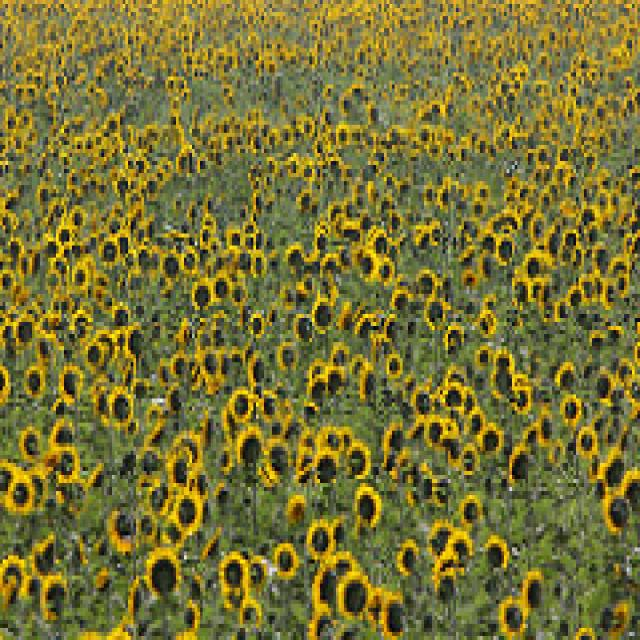sunflower: (315, 547, 360, 612), (139, 545, 184, 598), (337, 567, 375, 628), (101, 501, 139, 558), (302, 358, 342, 411), (168, 489, 205, 545), (168, 425, 203, 481), (596, 485, 633, 537), (0, 547, 29, 611), (1, 471, 36, 523), (376, 587, 410, 640), (405, 451, 435, 511), (216, 551, 251, 600), (494, 591, 529, 640), (140, 400, 175, 449), (41, 569, 71, 626), (195, 521, 229, 570), (126, 578, 158, 630), (232, 425, 264, 477), (263, 429, 292, 485), (429, 555, 459, 608), (104, 384, 139, 429), (26, 535, 58, 584), (304, 515, 336, 564), (306, 599, 344, 640), (355, 483, 384, 535), (343, 433, 372, 485), (312, 443, 341, 495), (490, 348, 514, 409), (605, 595, 637, 640), (235, 592, 269, 632), (445, 523, 475, 568), (517, 567, 547, 612), (424, 516, 461, 552), (56, 362, 85, 407), (484, 533, 513, 578), (604, 253, 633, 298), (354, 360, 378, 413), (225, 388, 255, 429), (505, 443, 532, 487), (600, 449, 627, 493), (398, 535, 422, 584), (15, 425, 41, 469), (493, 227, 518, 272), (272, 543, 299, 584), (365, 223, 392, 264), (12, 314, 39, 354), (144, 475, 171, 515), (209, 270, 239, 306), (0, 453, 19, 509), (51, 449, 80, 485), (179, 598, 208, 634), (440, 378, 469, 414), (571, 425, 600, 461), (410, 380, 434, 421), (480, 418, 504, 459), (384, 352, 411, 388), (441, 318, 468, 354), (208, 475, 235, 511), (86, 455, 110, 495), (122, 324, 146, 364), (276, 336, 300, 376), (48, 418, 77, 451), (383, 421, 409, 456), (425, 412, 447, 453), (353, 246, 378, 282), (413, 266, 438, 302), (96, 235, 123, 268), (313, 296, 335, 336), (381, 308, 403, 348), (565, 278, 587, 318), (20, 364, 44, 400), (164, 382, 188, 418), (110, 169, 134, 205), (464, 402, 488, 438), (594, 368, 618, 404), (530, 206, 554, 242), (248, 245, 269, 286), (512, 380, 533, 421), (92, 557, 113, 598), (592, 233, 608, 286), (296, 312, 317, 352), (560, 391, 584, 426), (554, 361, 578, 396), (192, 272, 211, 316), (243, 356, 272, 384), (353, 310, 378, 342), (433, 475, 455, 511), (477, 306, 499, 342), (217, 443, 239, 479), (93, 382, 112, 423), (180, 241, 199, 282), (376, 253, 397, 290), (325, 367, 347, 402), (108, 302, 132, 334), (200, 352, 224, 384), (390, 286, 414, 318), (460, 493, 484, 525), (520, 252, 544, 284), (248, 188, 272, 220), (36, 326, 55, 366), (84, 332, 103, 372), (284, 487, 305, 523), (423, 296, 444, 332), (459, 443, 480, 479), (72, 542, 93, 578), (416, 223, 437, 256), (72, 258, 91, 294), (577, 200, 596, 236), (0, 360, 13, 412), (282, 244, 306, 272), (170, 145, 194, 173), (458, 270, 482, 298), (339, 218, 365, 242), (417, 123, 439, 151), (563, 223, 581, 256), (592, 95, 611, 126), (223, 224, 244, 252), (475, 179, 496, 207), (468, 196, 489, 223), (44, 234, 63, 262), (160, 256, 179, 284), (168, 352, 187, 380), (248, 310, 267, 338), (197, 222, 216, 250), (436, 183, 455, 211), (533, 141, 552, 169), (457, 240, 476, 268), (597, 165, 616, 193), (10, 233, 26, 266), (0, 264, 16, 296), (135, 246, 153, 274), (297, 190, 316, 213), (195, 153, 213, 177), (1, 106, 18, 130), (68, 210, 87, 230), (19, 254, 32, 282), (336, 121, 349, 149), (37, 181, 51, 205), (20, 111, 36, 131)
